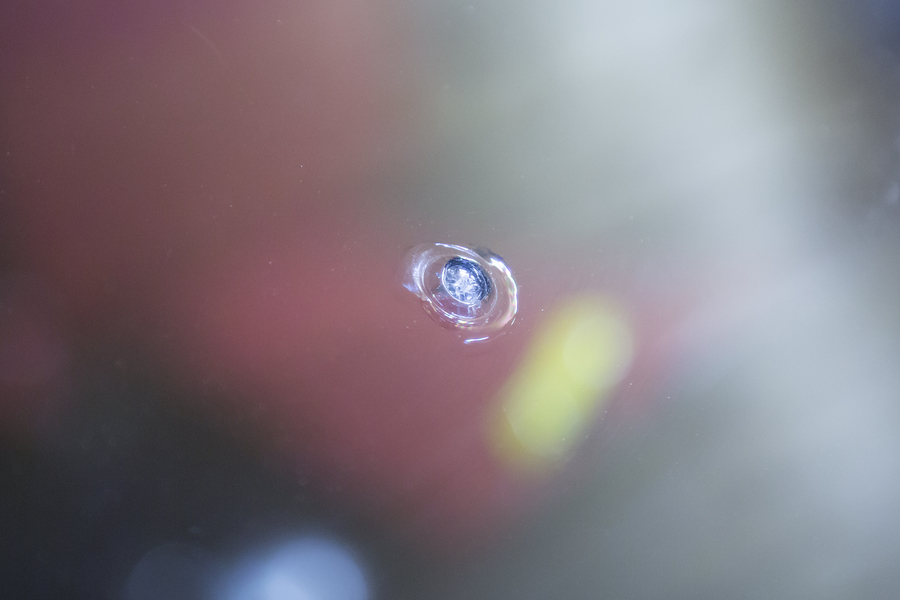bullseye: (381, 211, 566, 369)
